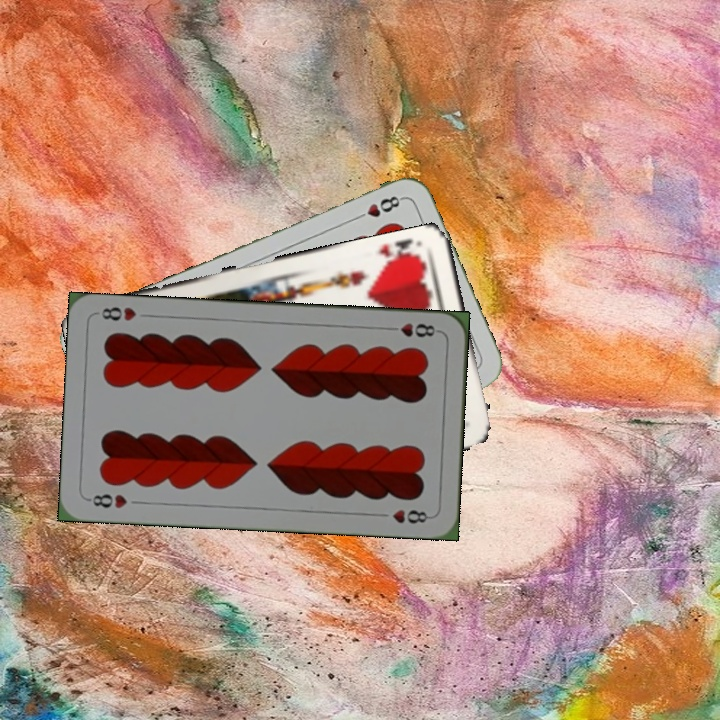H8: (349, 191, 405, 224), (383, 319, 442, 340), (84, 490, 130, 511)
HK: (374, 235, 424, 269)
